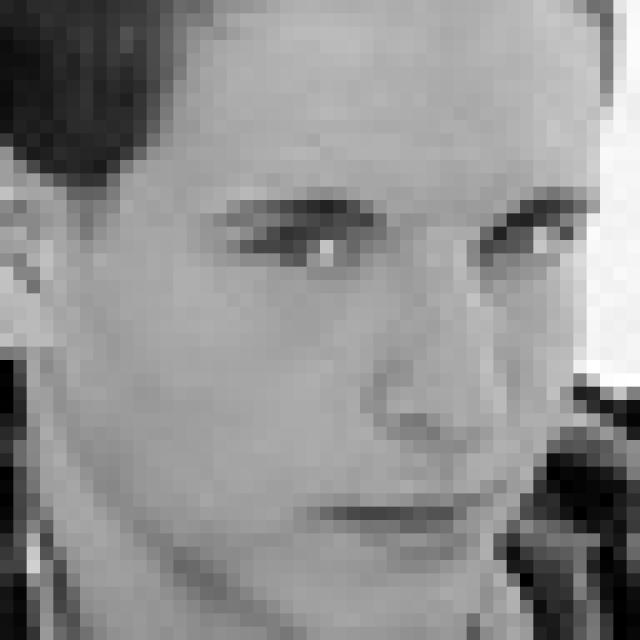neutral: (195, 178, 604, 572)
